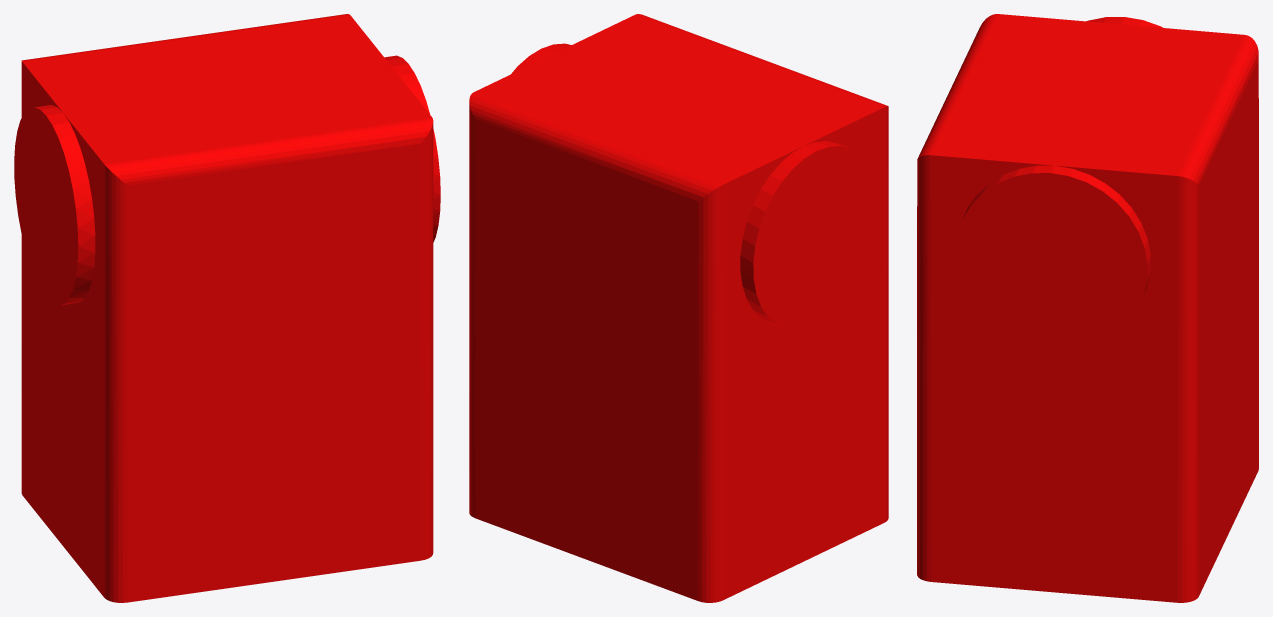
File: shoulder_b.obj
3 renders of one model, left to right at view 1: azimuth 30°, elevation 25°; view 2: azimuth 150°, elevation 25°; view 3: azimuth 270°, elevation 25°, orthographic. The views are drawn at different scales.
Visible parts, largest first — view 1: shoulder_b.001; view 2: shoulder_b.001; view 3: shoulder_b.001.
Part boxes in pixels (box(x1,y1,x2,y2)): shoulder_b.001: box(14, 14, 440, 602); shoulder_b.001: box(469, 14, 888, 602); shoulder_b.001: box(917, 14, 1258, 602).
Size of the model in its own units: 45.5 by 52.5 by 38.12.
